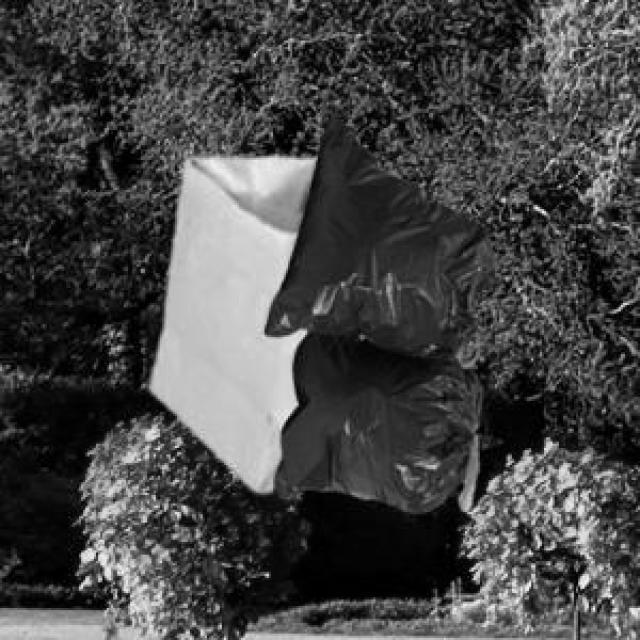miscellaneous trash: (260, 107, 493, 510)
paper: (147, 154, 314, 489)
